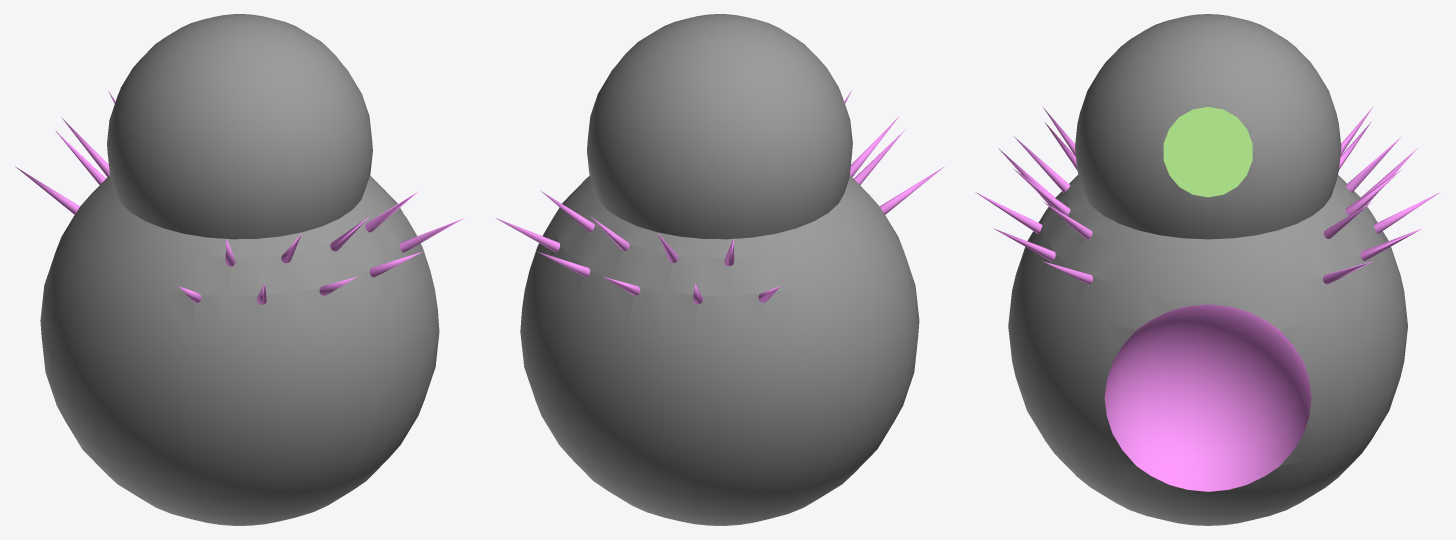
File: Mesh_Virus-2.FBX
3 views of the same model, side by side, from view 1: azimuth 30°, elevation 25°; view 2: azimuth 150°, elevation 25°; view 3: azimuth 270°, elevation 25° (orthographic).
Parts seen in each view (by area): view 1: Virus-2; view 2: Virus-2; view 3: Virus-2.
Part boxes in pixels (<box>): Virus-2: <box>15,14,464,525</box>; Virus-2: <box>496,14,944,525</box>; Virus-2: <box>975,14,1440,525</box>.
Size of the model in its own units: 139 by 175 by 199.
